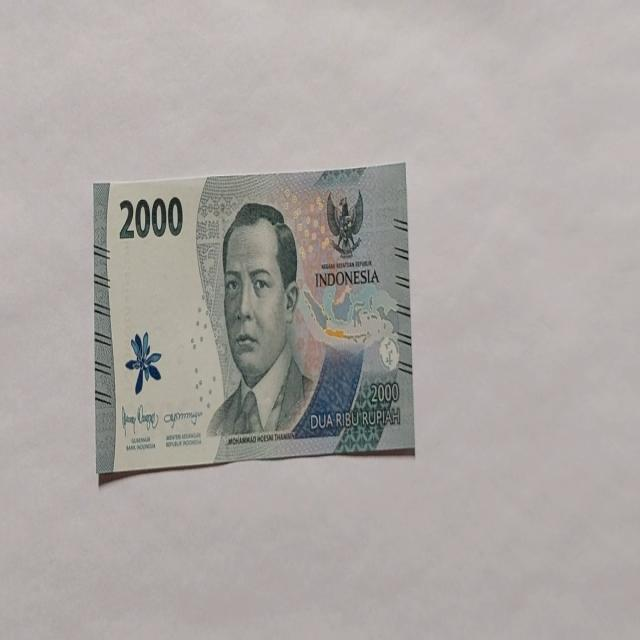dua ribu rupiah: (93, 162, 414, 479), (206, 201, 316, 439)
